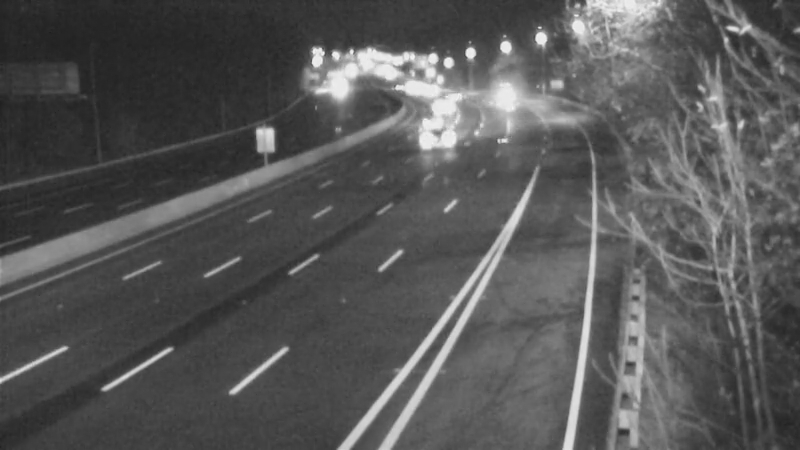vehicle: (402, 66, 452, 116), (429, 72, 479, 122), (482, 74, 532, 124), (417, 84, 467, 134), (406, 99, 456, 149), (417, 118, 467, 168)
